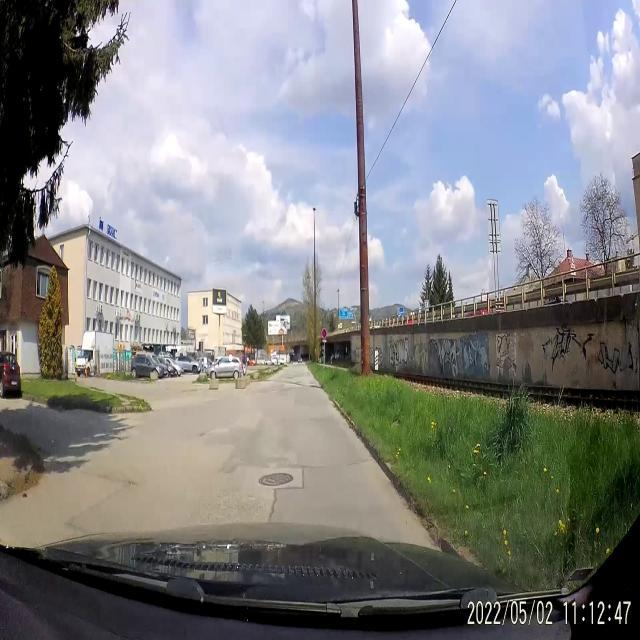Manhole: (255, 470, 298, 492)
